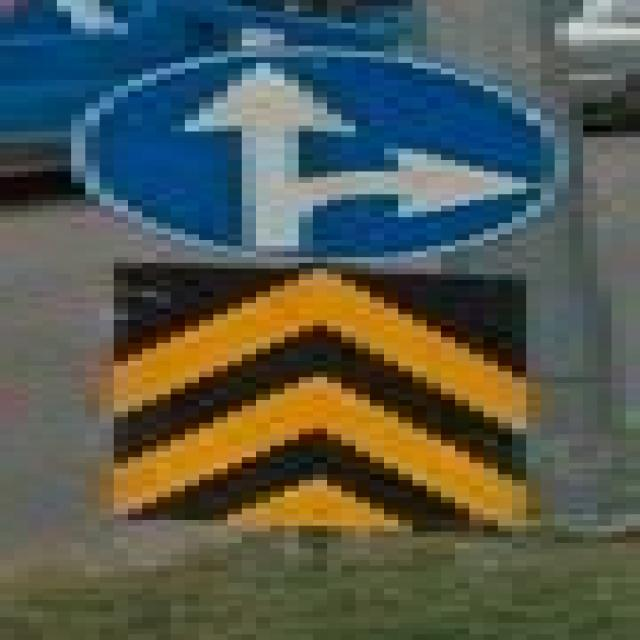Straight or Right: (86, 55, 556, 267)
